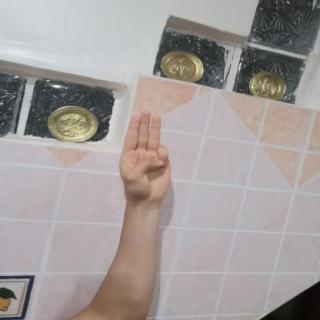THA: (111, 105, 179, 210)
